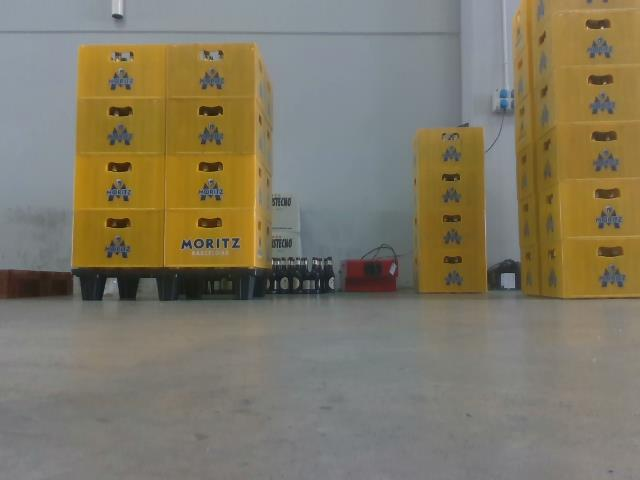block: (73, 268, 105, 298), (154, 268, 180, 304), (230, 268, 255, 302), (117, 277, 141, 302)
front: (75, 268, 257, 300)
hole pallet: (98, 270, 159, 299), (180, 273, 233, 300)
